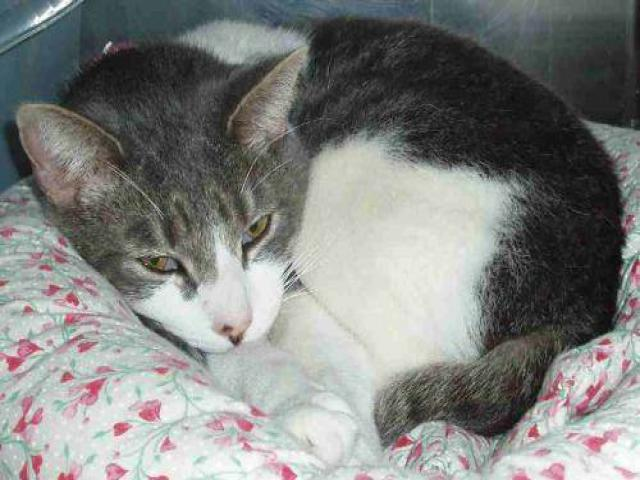cat: (15, 24, 621, 431)
